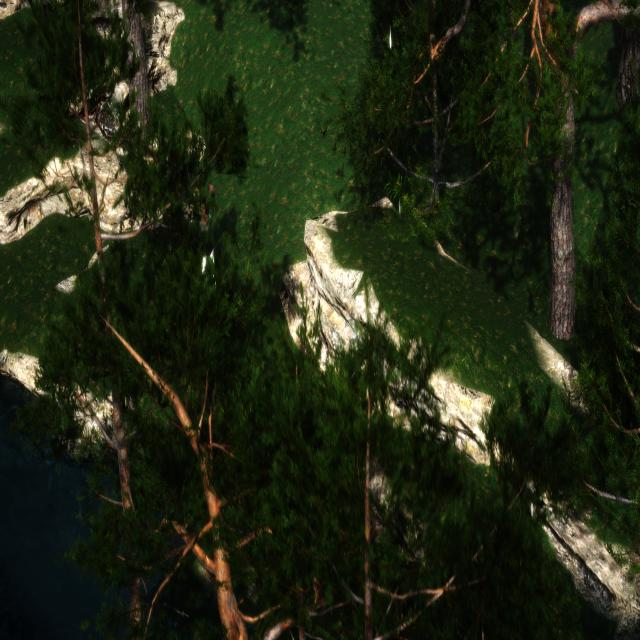Human: (189, 186, 221, 311)
